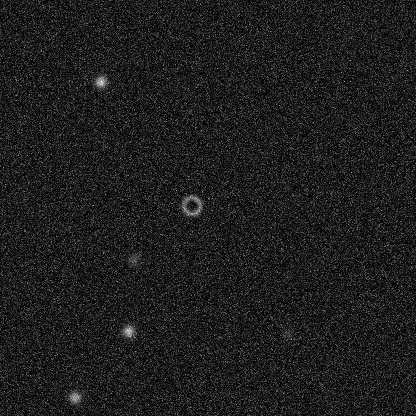Ring: (179, 193, 203, 217)
Spot: (125, 250, 141, 266), (120, 323, 136, 339), (92, 73, 108, 89), (67, 389, 83, 405), (280, 326, 296, 342)
